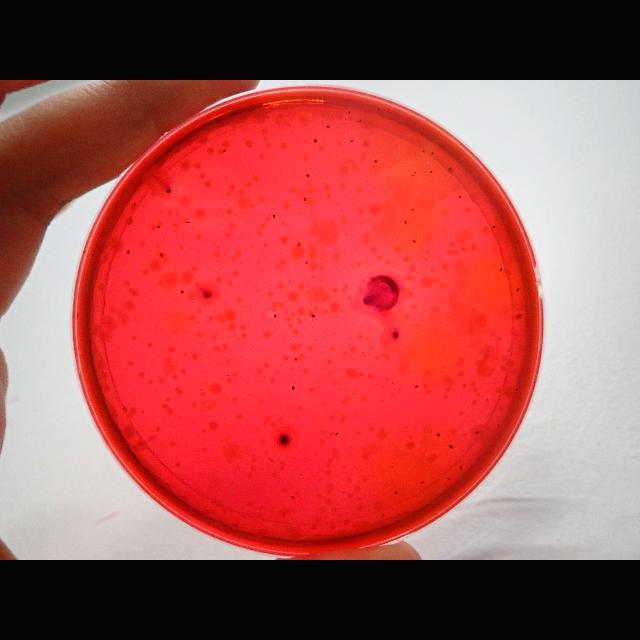colony: (203, 291, 210, 299), (125, 248, 132, 256), (514, 287, 522, 293), (516, 312, 524, 318), (290, 384, 296, 392), (435, 431, 441, 439), (419, 478, 425, 486), (380, 511, 386, 519), (158, 251, 164, 259), (166, 188, 172, 195), (394, 331, 398, 341), (474, 428, 478, 438), (290, 494, 296, 500), (156, 224, 162, 230), (312, 138, 318, 144), (304, 172, 310, 178), (373, 158, 379, 164), (402, 220, 408, 226), (310, 313, 316, 319), (272, 313, 278, 319), (448, 444, 454, 450), (445, 476, 451, 482), (180, 288, 184, 296), (133, 200, 137, 208), (492, 223, 496, 231), (394, 488, 398, 496), (459, 464, 463, 471), (334, 430, 338, 436), (184, 220, 192, 223), (222, 148, 226, 154), (347, 110, 351, 116), (326, 124, 330, 130), (350, 138, 354, 144), (272, 214, 276, 220), (448, 166, 452, 172), (430, 150, 434, 156), (457, 194, 461, 200), (412, 238, 416, 244), (499, 267, 503, 273), (414, 384, 418, 390), (514, 386, 518, 392), (386, 531, 390, 537), (284, 435, 288, 439), (280, 437, 284, 441), (358, 119, 362, 123), (303, 198, 307, 202), (429, 170, 433, 174), (414, 170, 416, 176)
